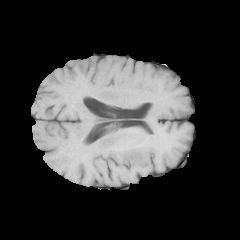glioma: (118, 122, 147, 167)
